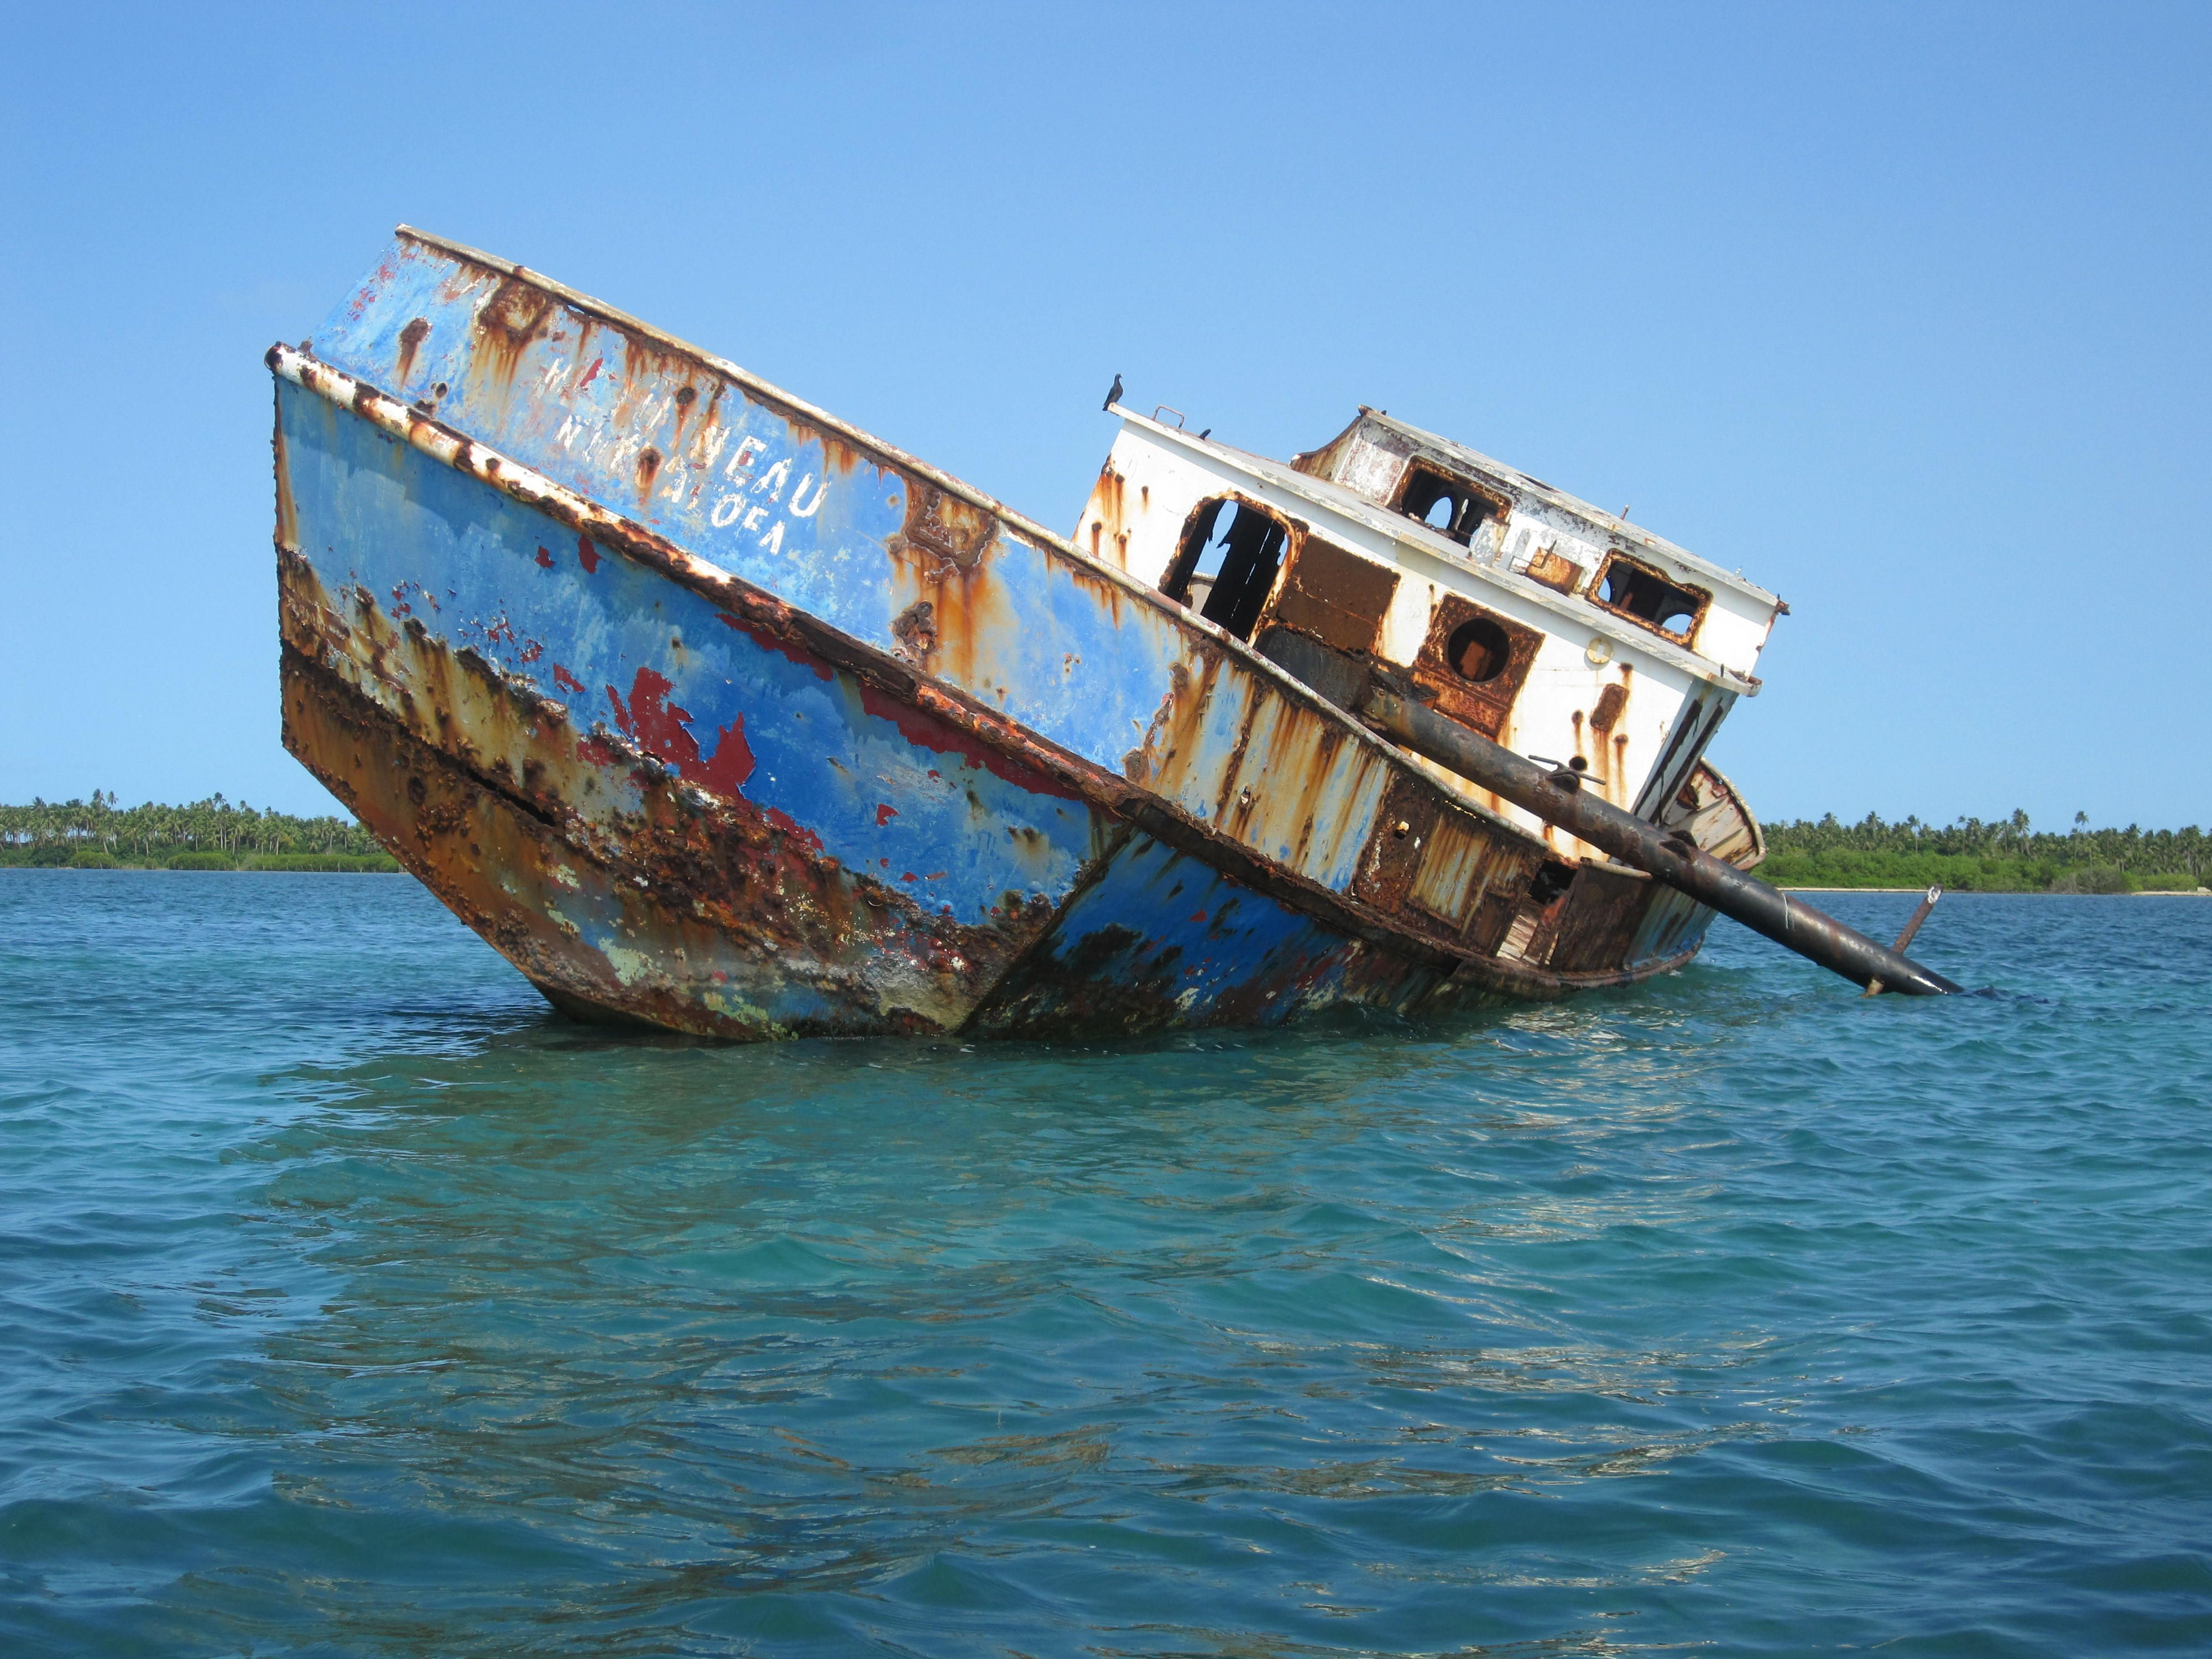rust: (277, 584, 834, 985), (460, 267, 751, 423), (1385, 798, 1639, 969), (1420, 603, 1524, 735), (1280, 537, 1383, 645), (911, 491, 981, 648)
